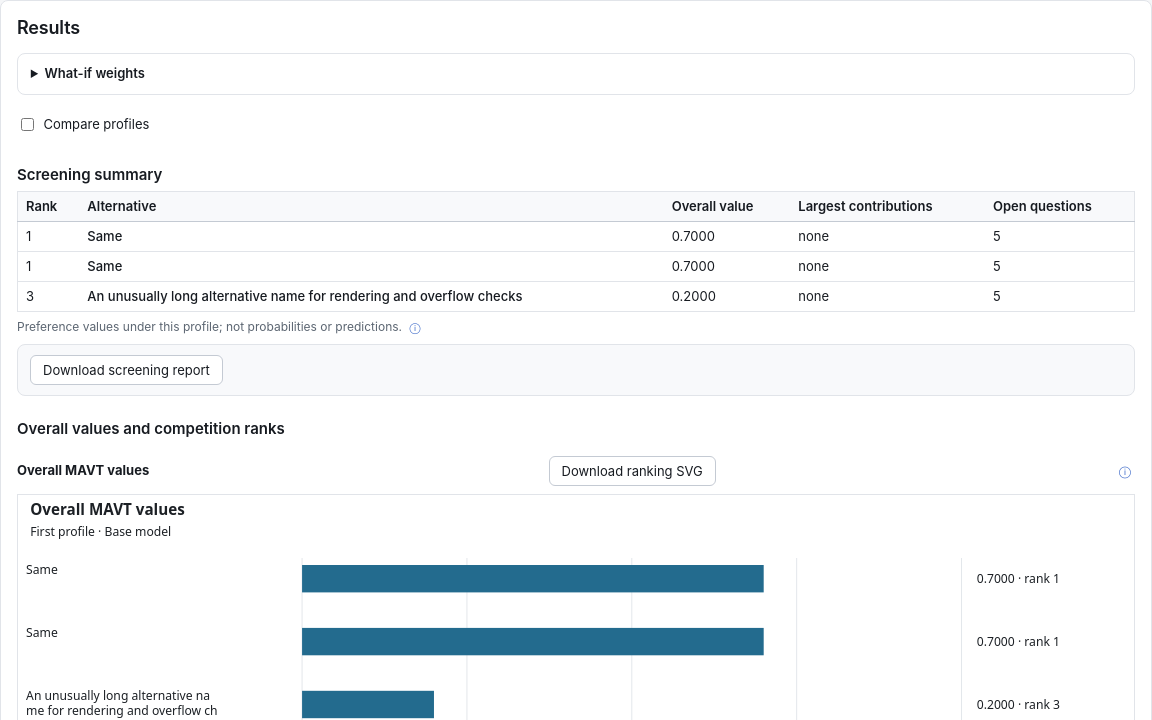
Test: reranks only the summary and ranking chart, hides counts and blocks exports, then Reset restores saved readings without edits
The image size is (1152, 720).
Click the heading "What-if weights" at [95, 74], box x1=45 y1=66 x2=145 y2=82
Wait 200 ms
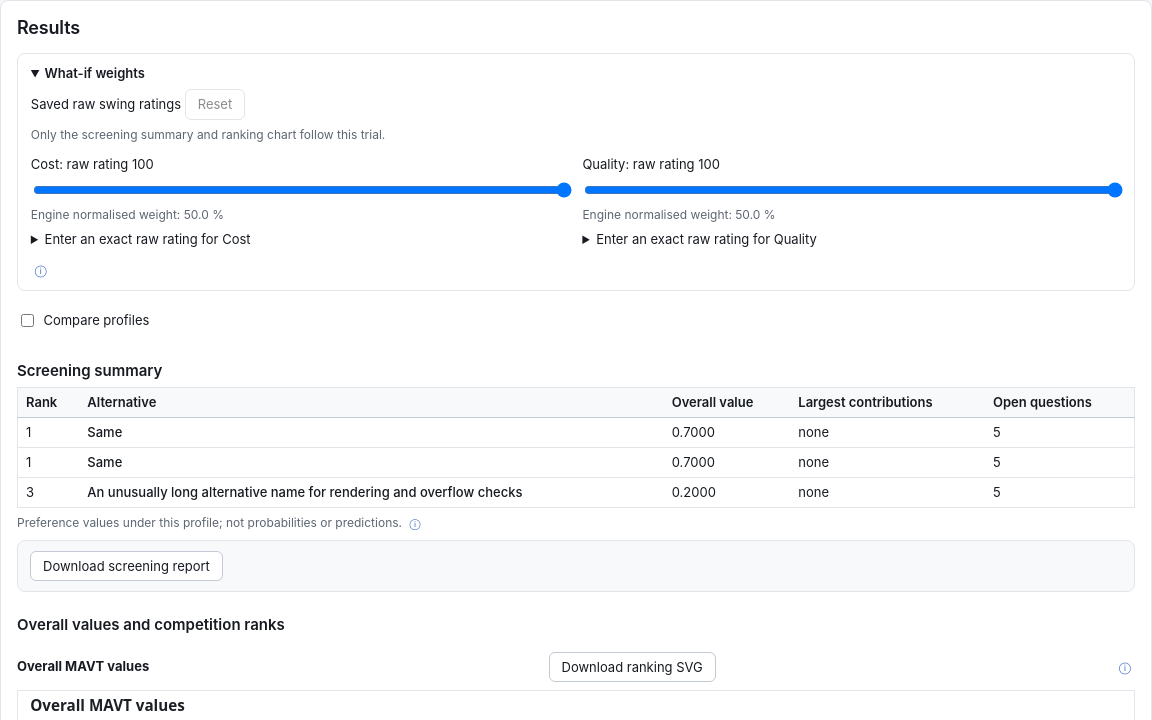
Set the slider named "What-if Cost" to "0" at [41, 190], box x1=33 y1=182 x2=572 y2=198
Wait 200 ms
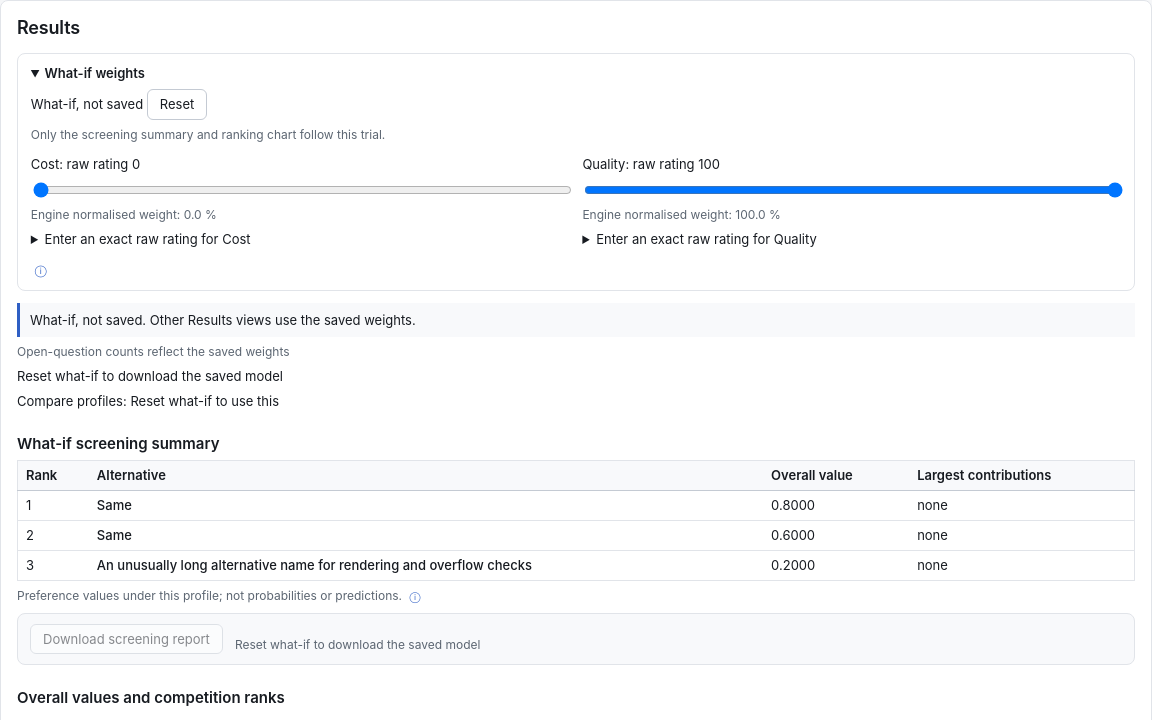
Check: the column heading "Open questions" is gone
Check: the text "Open-question counts reflect the saved weights" is shown, box x1=17 y1=344 x2=290 y2=360
Check: the text "Compare profiles: Reset what-if to use this" is shown, box x1=17 y1=393 x2=279 y2=409
Click the button "Reset" at [177, 104], box x1=147 y1=89 x2=207 y2=120
Wait 200 ms
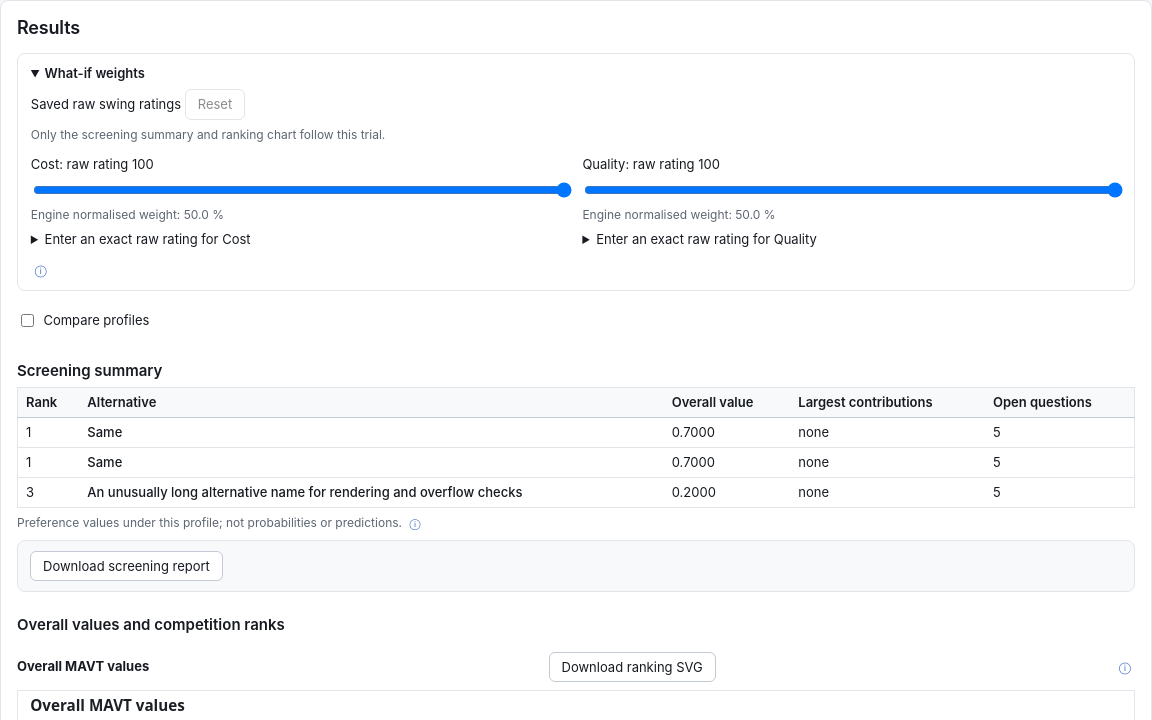
Check: the column heading "Open questions" is shown, box x1=985 y1=388 x2=1134 y2=418
Check: the button "Download ranking SVG" is enabled, box x1=548 y1=652 x2=716 y2=682
